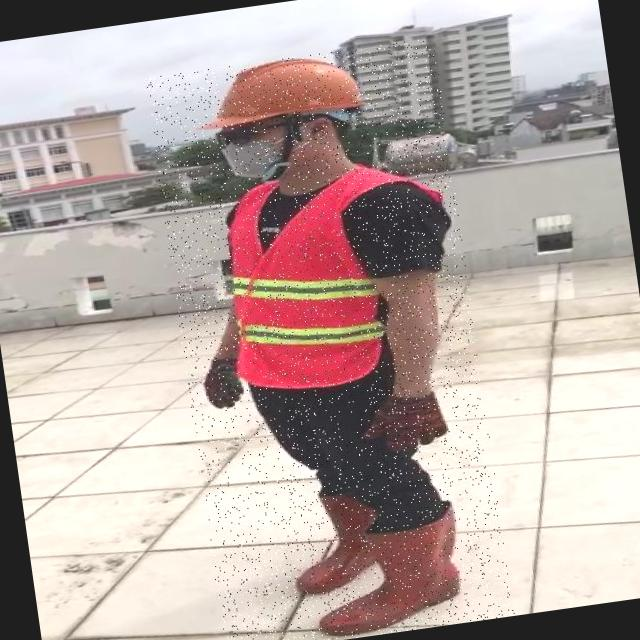boots: (308, 504, 472, 636), (286, 488, 384, 594)
helmet: (184, 48, 374, 139)
vest: (215, 168, 398, 396)
